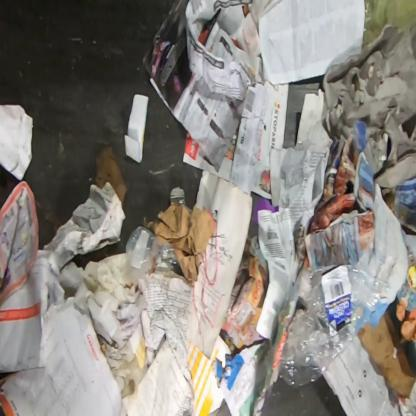cardboard: (143, 204, 217, 288), (357, 308, 415, 399), (381, 174, 415, 236)
soft_plastic: (278, 264, 393, 389), (361, 0, 415, 54), (125, 226, 179, 274)
